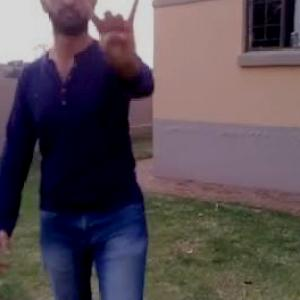takeoff-hand: (72, 0, 150, 72)
